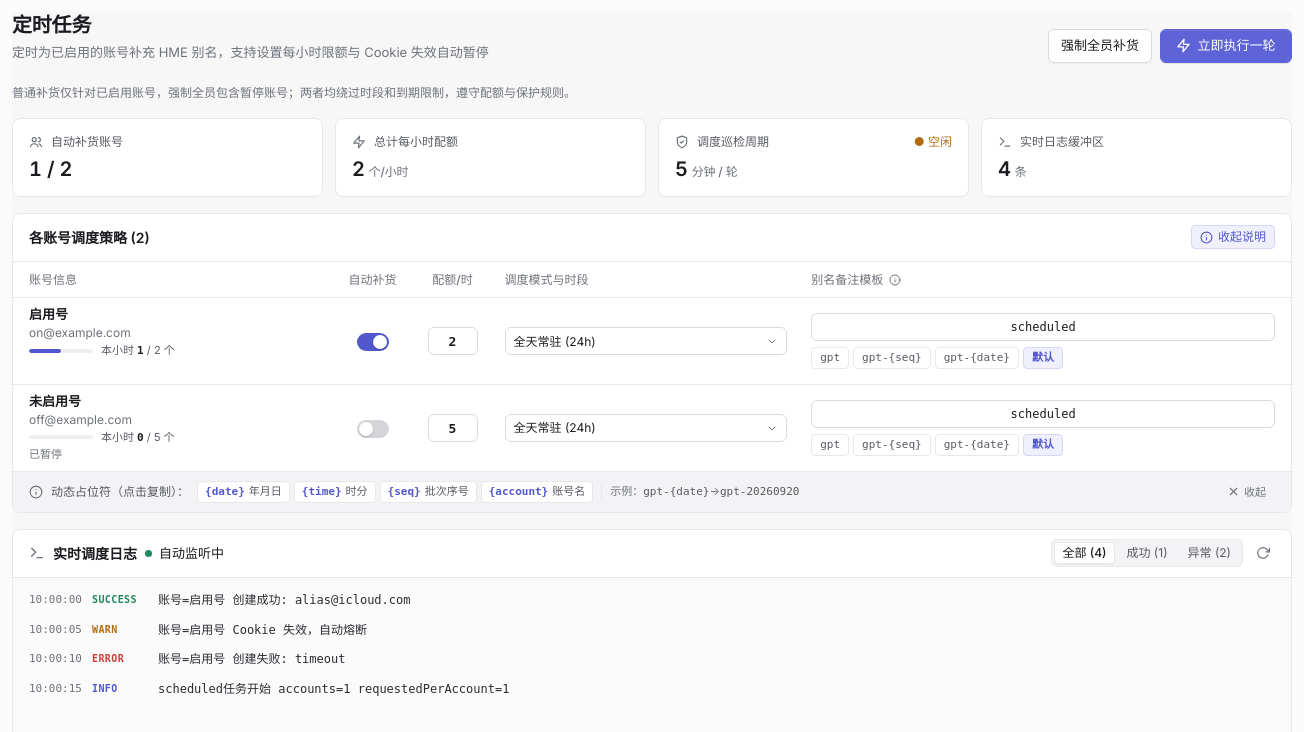
SchedulePage › 异常过滤同时覆盖 ERROR 与 WARN(熔断),成功与普通 INFO 不出现
Click the button "异常 (2)". click: [1209, 554]
box: x1=1178 y1=542 x2=1240 y2=564
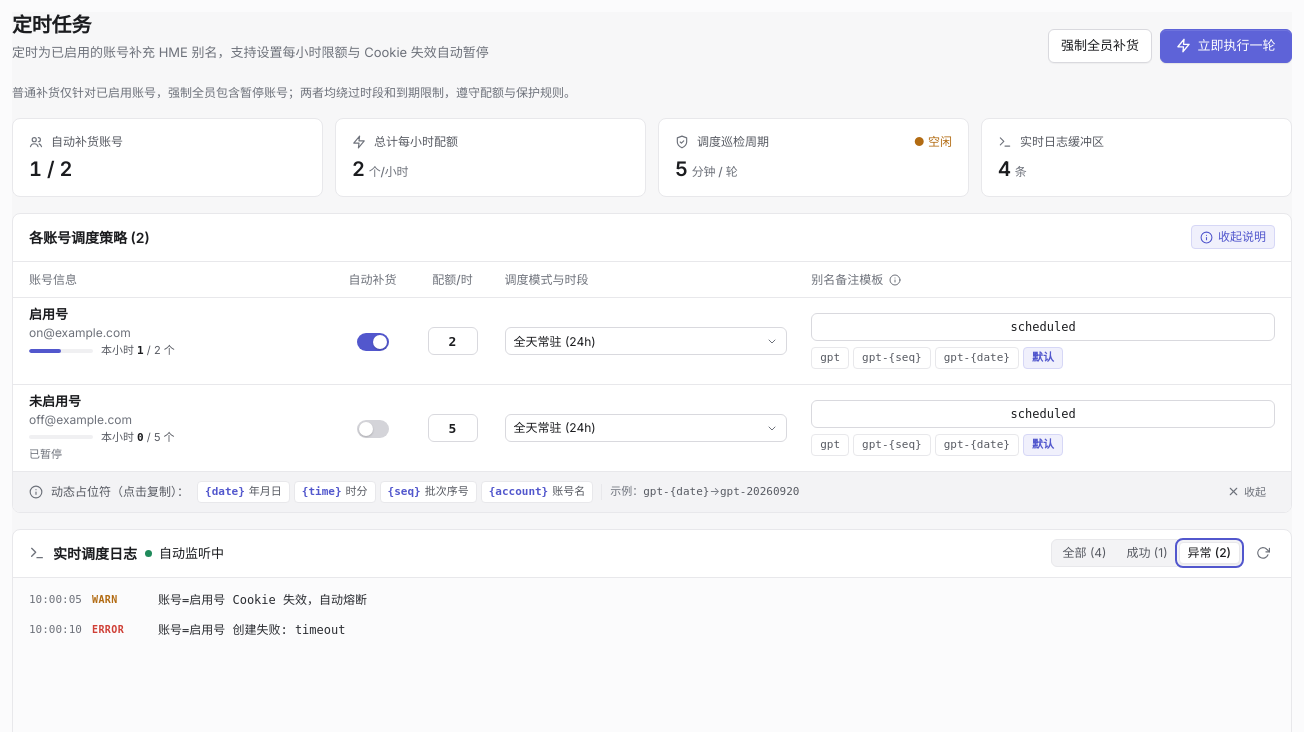
Expected: the text "账号=启用号 Cookie 失效，自动熔断" is shown, x1=158 y1=593 x2=367 y2=607
Now the text "创建成功" is gone
Now the text "scheduled任务开始" is gone
